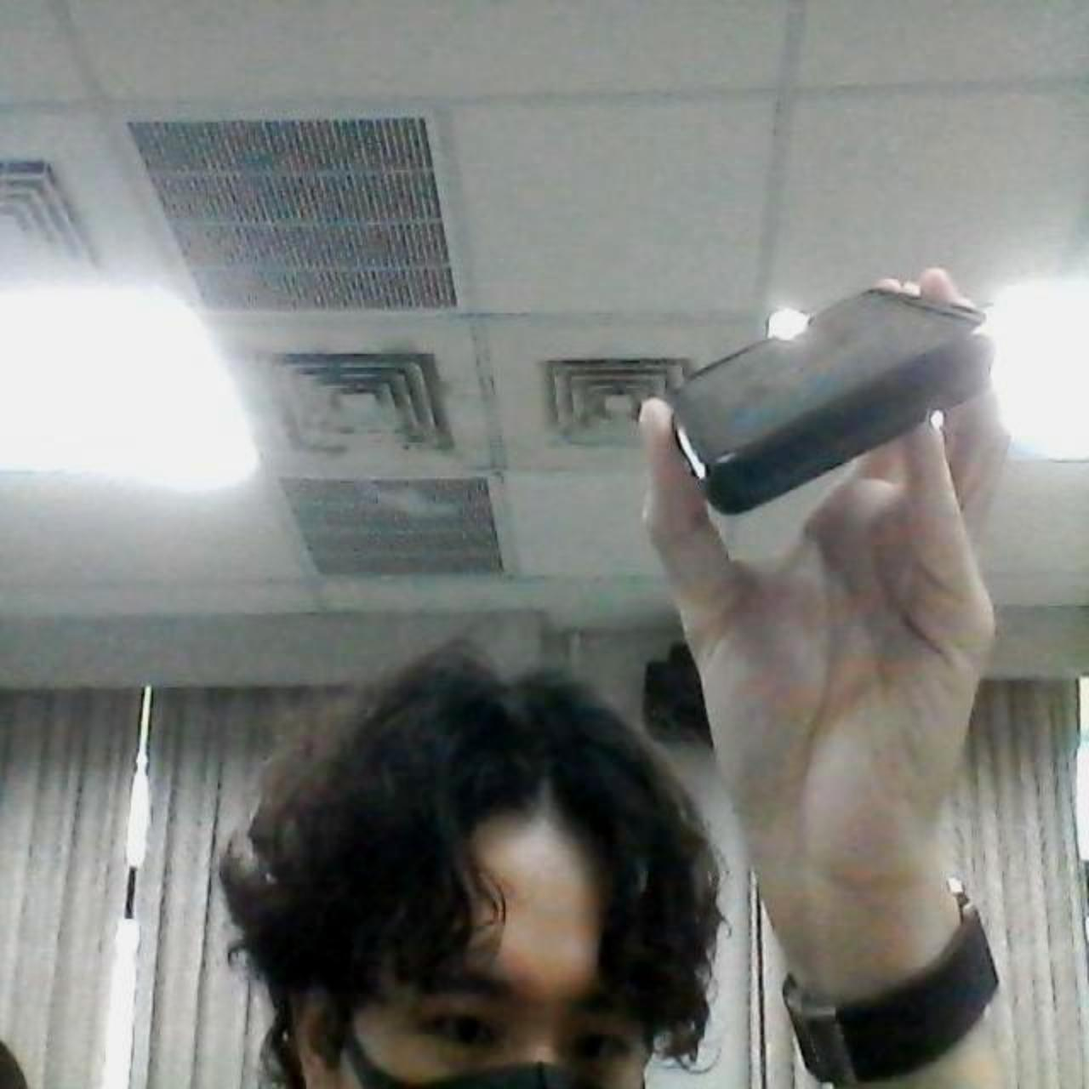phone: (663, 268, 1000, 515)
